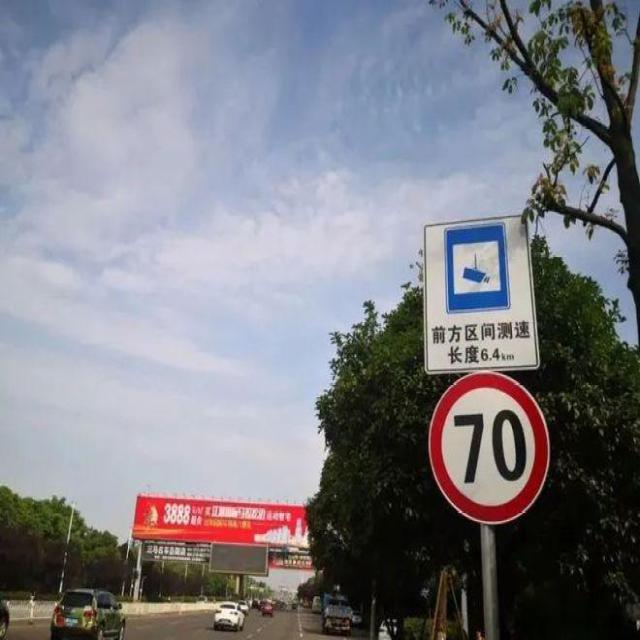speed limit 70: (427, 370, 550, 528)
